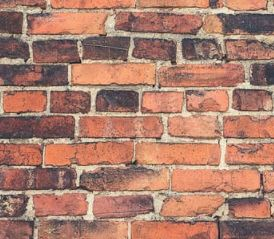brick: (133, 141, 222, 167), (113, 10, 203, 34), (172, 168, 261, 191), (86, 166, 170, 190), (157, 64, 244, 87), (1, 114, 74, 140), (70, 64, 156, 86), (77, 116, 162, 138), (45, 143, 134, 163), (1, 167, 77, 190), (36, 220, 127, 239), (131, 220, 218, 239), (25, 14, 105, 34), (1, 65, 69, 87), (163, 194, 225, 217), (205, 14, 274, 34), (92, 194, 154, 216), (221, 115, 274, 139), (224, 142, 274, 166), (28, 40, 82, 62), (33, 193, 86, 215), (1, 142, 44, 168), (222, 38, 274, 59), (82, 37, 129, 60), (165, 115, 214, 137), (134, 36, 176, 61), (1, 90, 48, 112), (177, 36, 223, 58), (94, 90, 140, 112), (50, 89, 92, 113), (144, 90, 184, 114), (185, 90, 231, 110), (228, 196, 271, 217), (48, 1, 136, 8), (2, 219, 32, 239), (140, 1, 203, 8), (1, 13, 23, 33)
